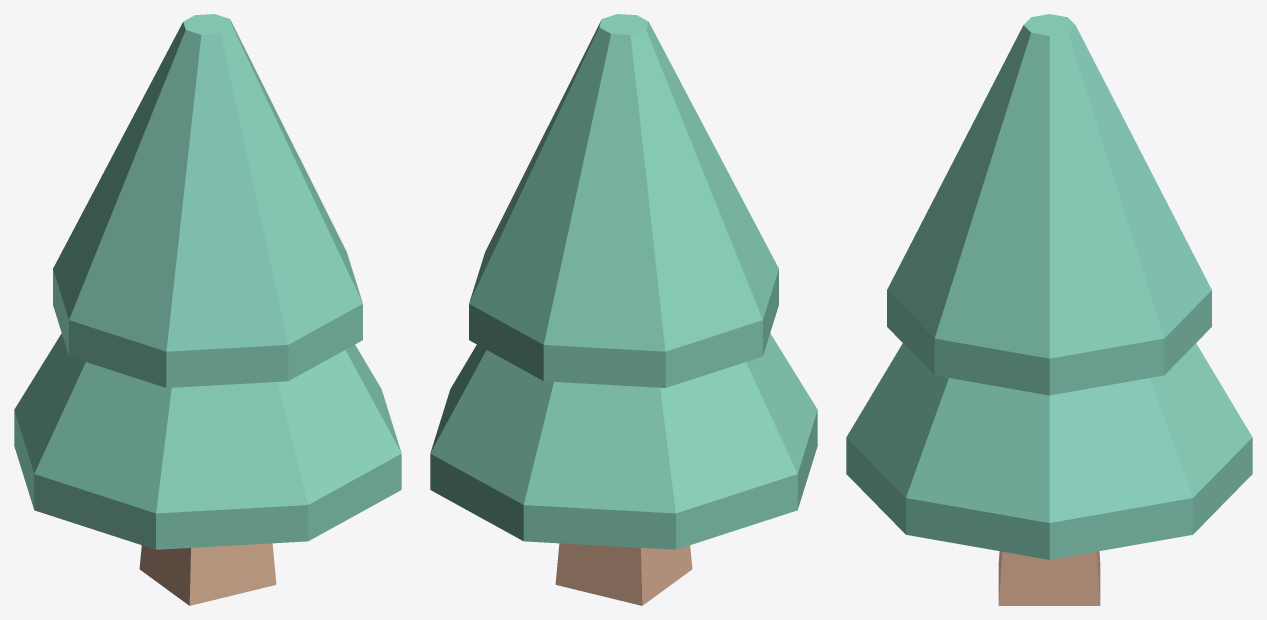
File: detail_treeLarge.glb
3 renders of one model, left to right at view 1: azimuth 30°, elevation 25°; view 2: azimuth 150°, elevation 25°; view 3: azimuth 270°, elevation 25°, orthographic.
Visible parts, largest first — view 1: detail_treeLarge; view 2: detail_treeLarge; view 3: detail_treeLarge.
Part boxes in pixels (box(x1,y1,x2,y2)): detail_treeLarge: box(14, 14, 401, 605); detail_treeLarge: box(430, 14, 817, 605); detail_treeLarge: box(846, 14, 1252, 605).
Size of the model in its own units: 0.5 by 0.76 by 0.5.
